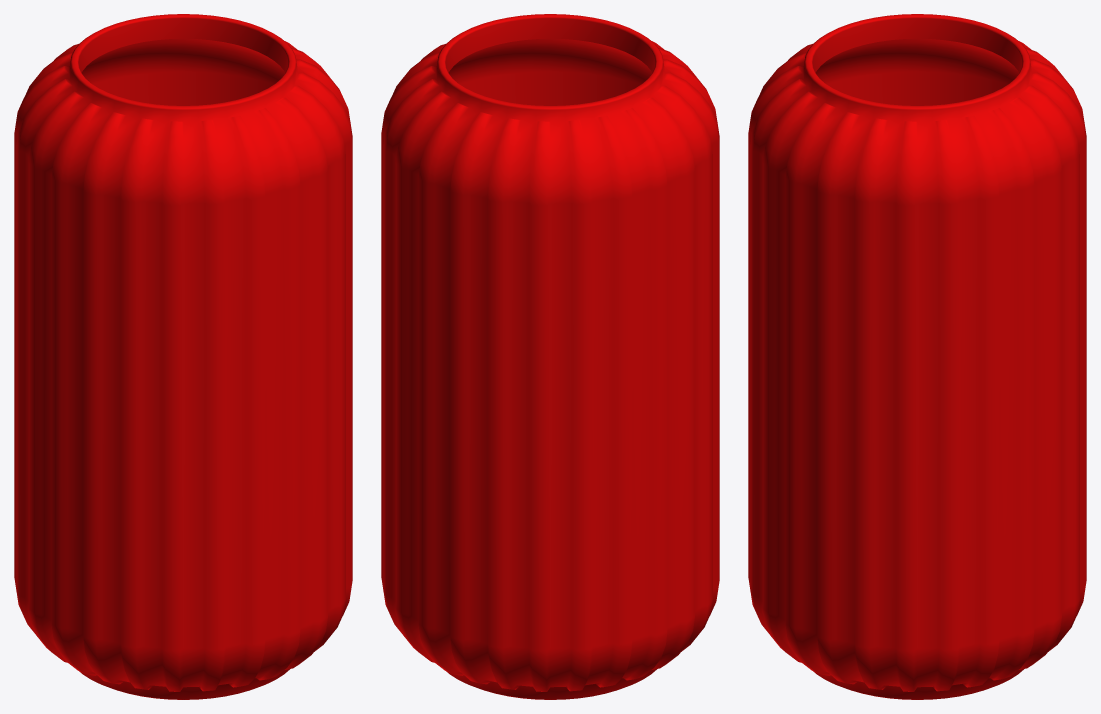
The model's file is RoboTHOR_vases_grp.fbx.
3 views of the same model, side by side, from view 1: azimuth 30°, elevation 25°; view 2: azimuth 150°, elevation 25°; view 3: azimuth 270°, elevation 25° (orthographic).
Visible parts, largest first — view 1: robothor_vase_stilren; view 2: robothor_vase_stilren; view 3: robothor_vase_stilren.
Part boxes in pixels (bbox=[...]): robothor_vase_stilren: bbox=[14, 14, 352, 699]; robothor_vase_stilren: bbox=[381, 14, 719, 699]; robothor_vase_stilren: bbox=[748, 14, 1086, 699].
Size of the model in its own units: 11.49 by 22.23 by 11.49.
